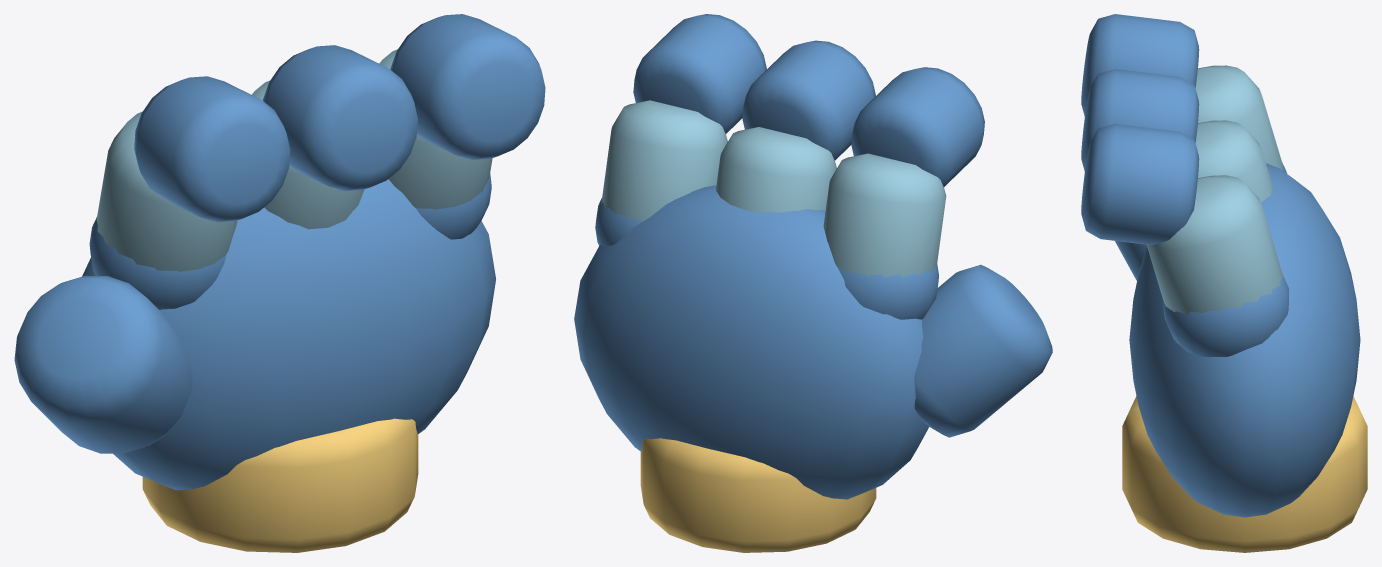
Rendered from grabber_claw.glb.
The picture shows the model from 3 angles, left to right: view 1: azimuth 30°, elevation 25°; view 2: azimuth 150°, elevation 25°; view 3: azimuth 270°, elevation 25°; orthographic projection. The views are drawn at different scales.
Parts seen in each view (by area): view 1: grabber_claw / material batches; view 2: grabber_claw / material batches; view 3: grabber_claw / material batches.
Part boxes in pixels (x1,y1,x2,y2): grabber_claw / material batches: (14, 14, 545, 552); grabber_claw / material batches: (574, 14, 1052, 552); grabber_claw / material batches: (1081, 14, 1367, 552).
Bounding box in the file's own units: 0.7078 × 0.6663 × 0.3967.
